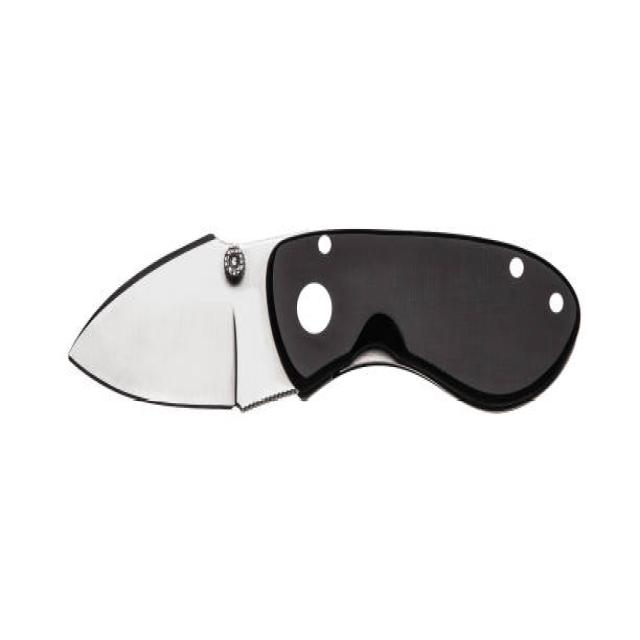knife: (60, 221, 602, 438)
